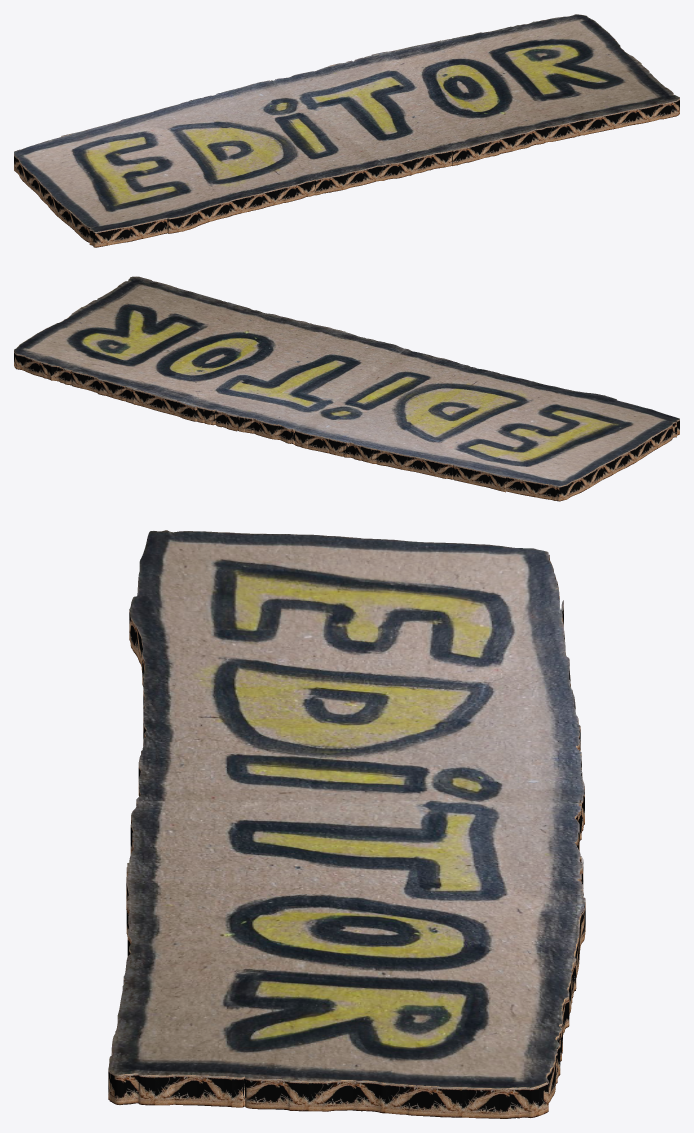
File: Editor.fbx
3 views of the same model, one above another, from view 1: azimuth 30°, elevation 25°; view 2: azimuth 150°, elevation 25°; view 3: azimuth 270°, elevation 25° (orthographic). The views are drawn at different scales.
Visible parts, largest first — view 1: Editor; view 2: Editor; view 3: Editor.
Part boxes in pixels (box(x1,y1,x2,y2)): Editor: box(14, 14, 679, 247); Editor: box(14, 276, 679, 501); Editor: box(108, 530, 585, 1118).
Bounding box in the file's own units: 3.99 × 0.1 × 1.44.
